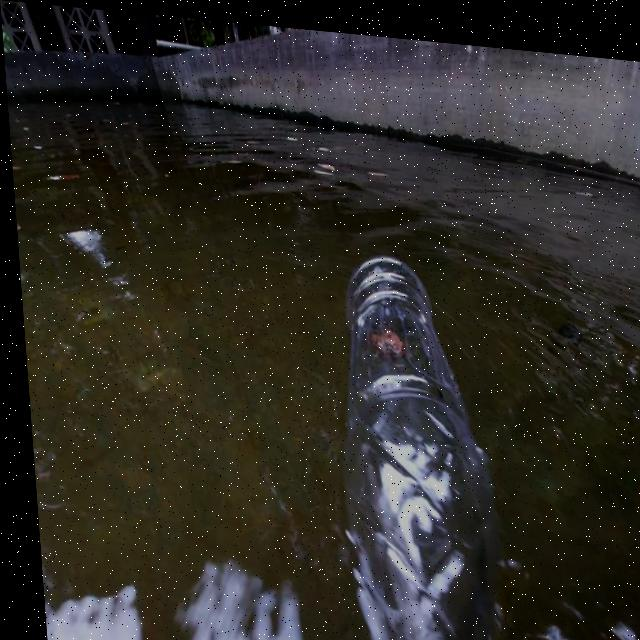waterbottle: (309, 227, 557, 640)
